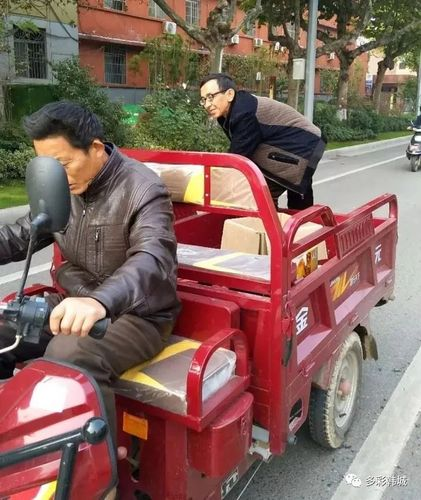driver: (18, 100, 182, 419)
overloading: (3, 85, 396, 496)
passenger: (195, 68, 320, 222)
